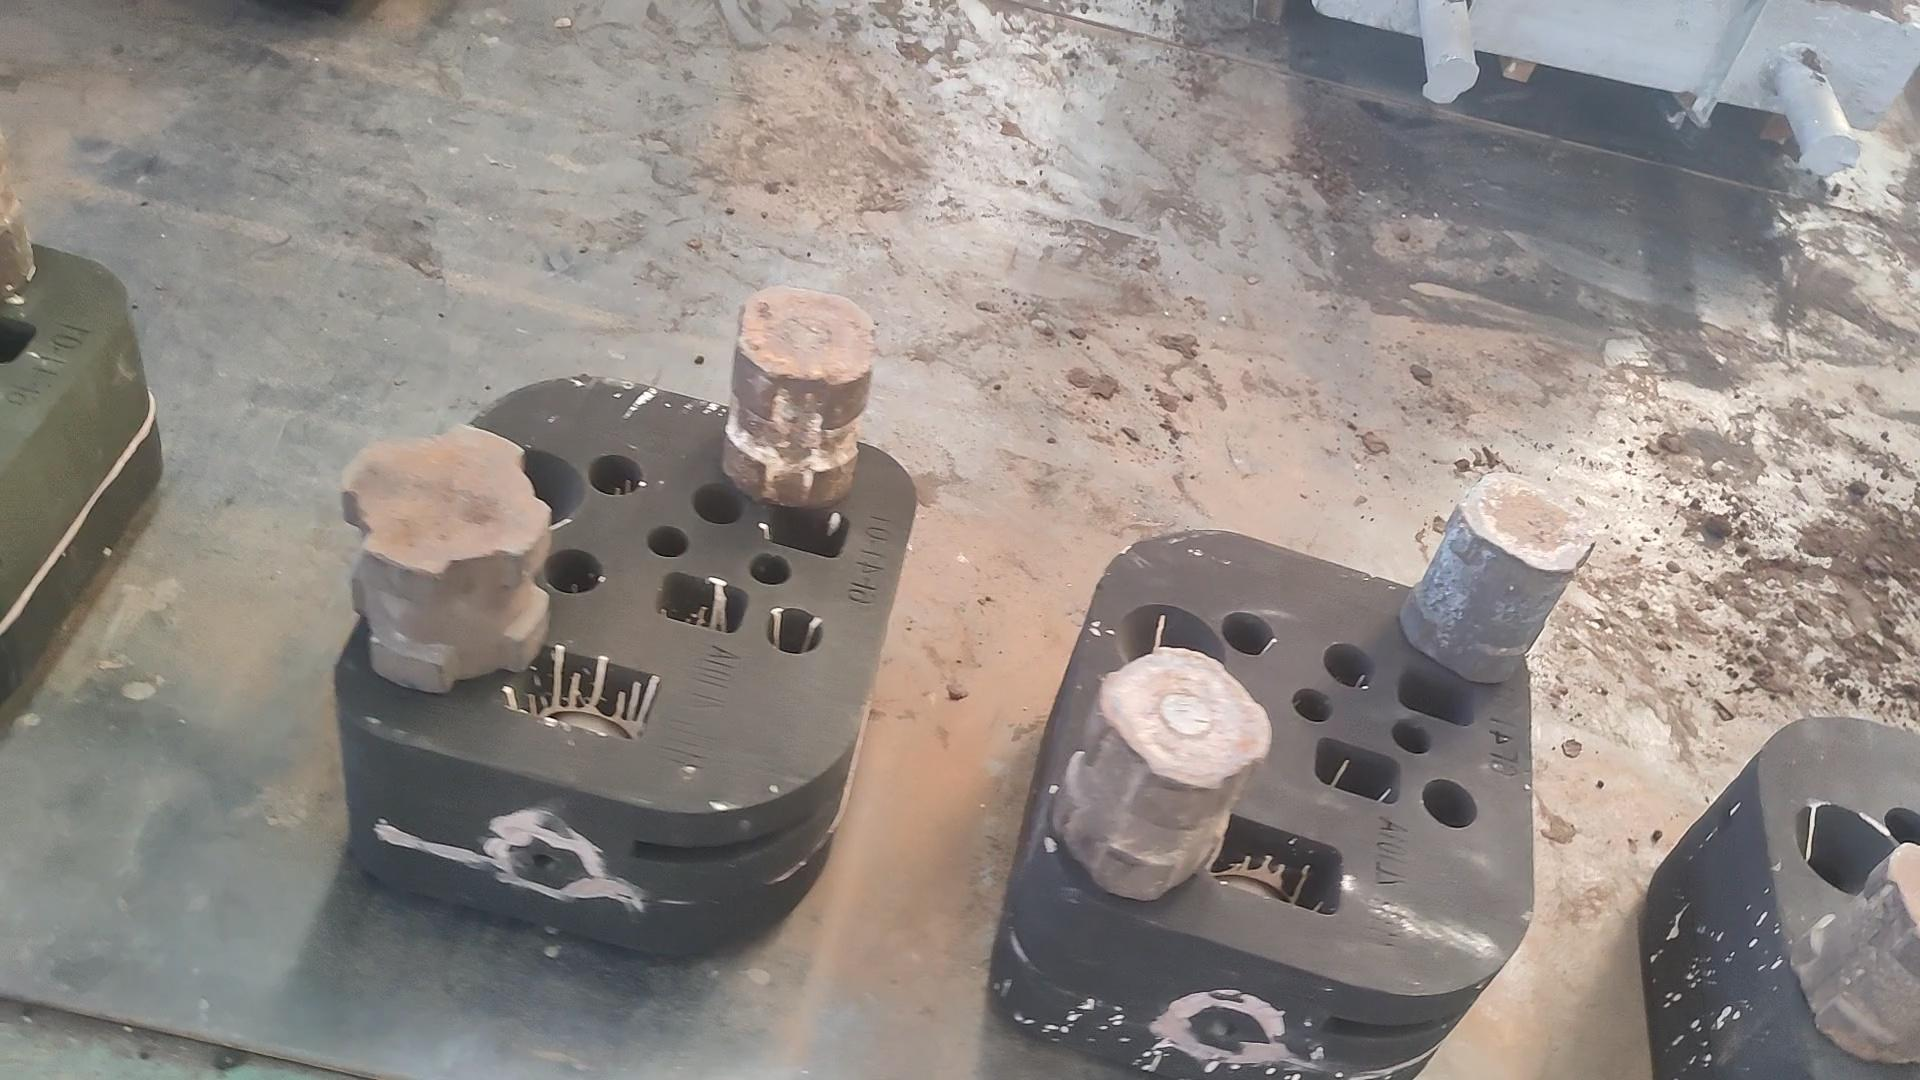pouring hole: (462, 443, 585, 531), (1793, 802, 1899, 898), (1116, 603, 1226, 687)
